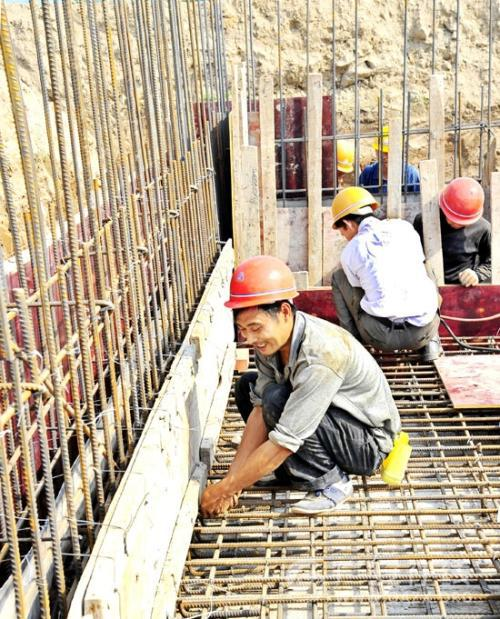helmet: (229, 250, 311, 353), (327, 185, 380, 249), (438, 175, 488, 234), (327, 138, 365, 186), (373, 121, 403, 170)
